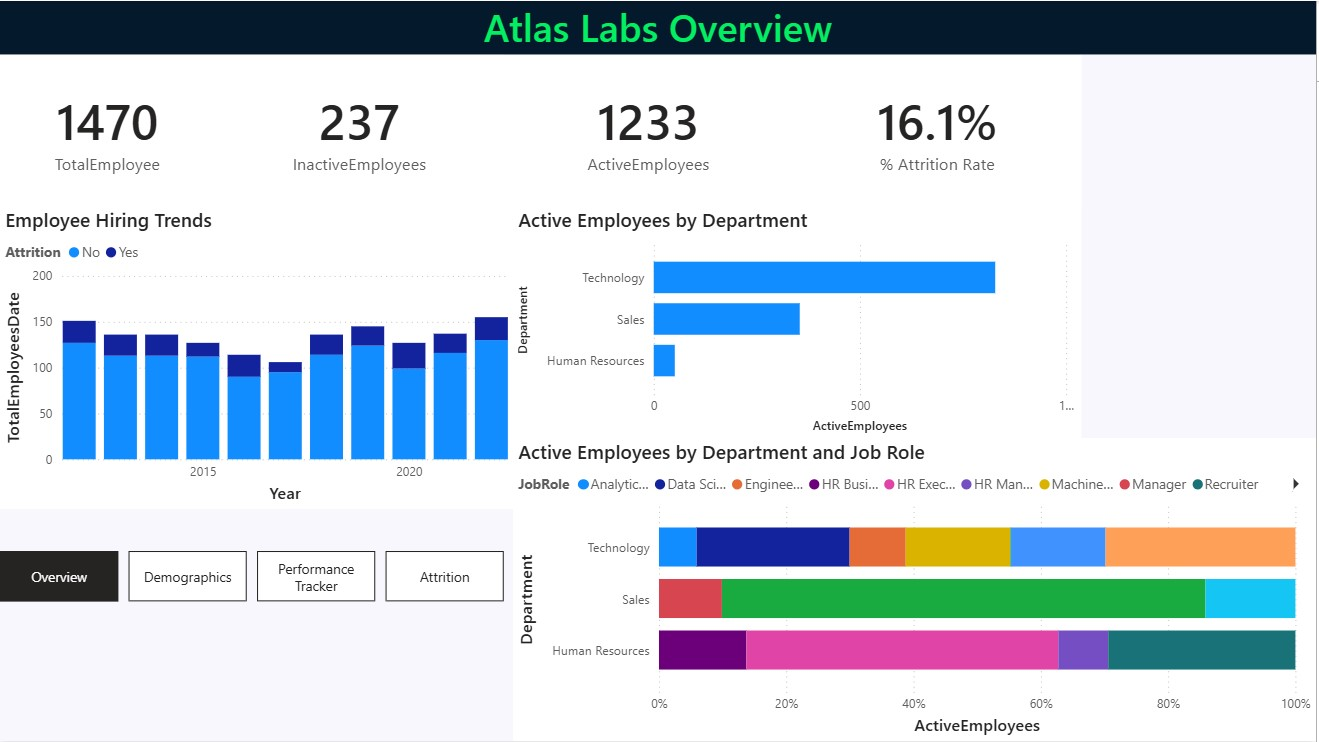

What the dashboard file says about the page in this screenshot:
{"tool":"powerbi","page":{"name":"Overview","canvas":[1280,720],"ordinal":0},"visuals":[{"type":"card","fields":{"Values":["_Measures.TotalEmployee"]},"box":[0,51.6,209.1,147.8],"z":0},{"type":"card","fields":{"Values":["_Measures.InactiveEmployees"]},"box":[209.1,51.6,281.1,147.8],"z":1000},{"type":"card","fields":{"Values":["_Measures.ActiveEmployees"]},"box":[490.2,52.5,281.1,146.9],"z":2000},{"type":"card","fields":{"Values":["_Measures.% Attrition Rate"]},"box":[771.3,52.5,281.1,146.9],"z":3000},{"type":"columnChart","title":"Employee Hiring Trends","fields":{"Y":["_Measures.TotalEmployeesDate"],"Category":["DimDate.Date.Variation.Date Hierarchy.Year"],"Series":["DimEmployee.Attrition"]},"box":[0,199.4,499,294.7],"z":4000},{"type":"clusteredBarChart","title":"Active Employees by Department","fields":{"Y":["_Measures.ActiveEmployees"],"Category":["DimEmployee.Department"]},"box":[499,199.4,553.4,225.7],"z":5000},{"type":"hundredPercentStackedBarChart","fields":{"Category":["DimEmployee.Department"],"Y":["_Measures.ActiveEmployees"],"Series":["DimEmployee.JobRole"]},"box":[499,425,781,294.7],"z":6000},{"type":"shape","title":"Atlas Labs Overview","box":[0,0,1280,51.6],"z":7000},{"type":"pageNavigator","box":[0,535,490.2,49.6],"z":7001}]}

Visuals, with their boxes in screenshot pixels (x1, y1, x2, y2), scaled from the page's 1280x720 canvas onto the 1319x742 screenshot:
card - _Measures.TotalEmployee: [0,53,215,205]
card - _Measures.InactiveEmployees: [215,53,505,205]
card - _Measures.ActiveEmployees: [505,54,795,205]
card - _Measures.% Attrition Rate: [795,54,1084,205]
"Employee Hiring Trends" columnChart: [0,205,514,509]
"Active Employees by Department" clusteredBarChart: [514,205,1084,438]
hundredPercentStackedBarChart - DimEmployee.Department x _Measures.ActiveEmployees: [514,438,1318,741]
"Atlas Labs Overview" shape: [0,0,1318,53]
pageNavigator: [0,551,505,602]
